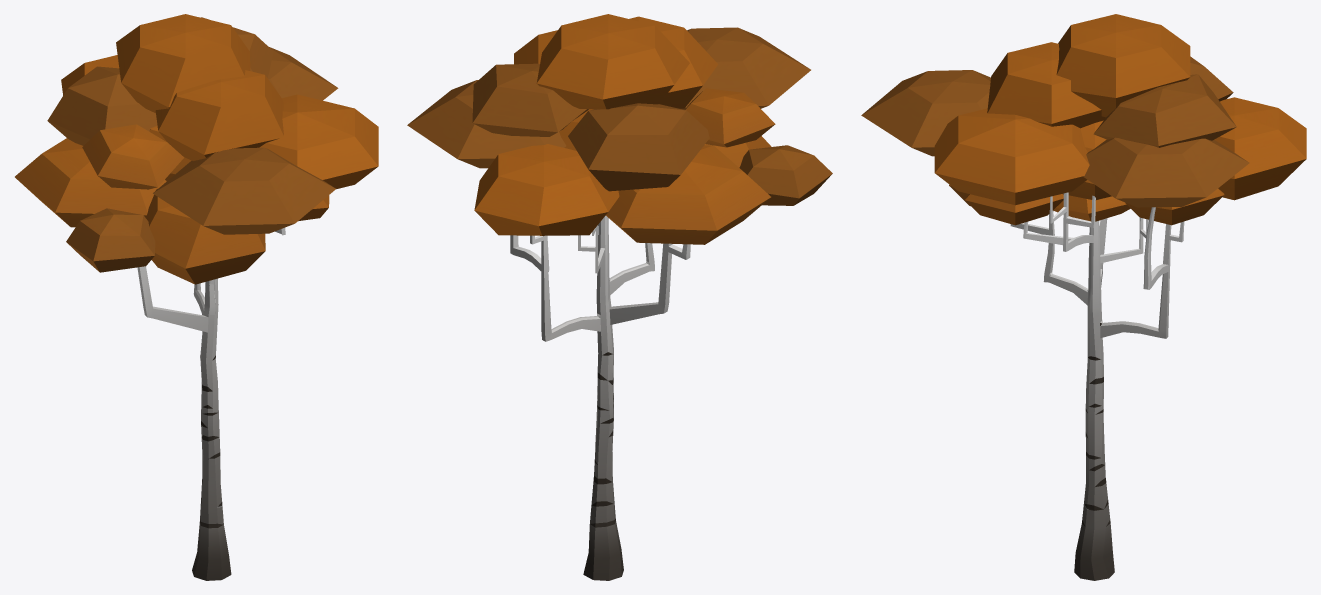
File: arbol1.fbx
3 renders of one model, left to right at view 1: azimuth 30°, elevation 25°; view 2: azimuth 150°, elevation 25°; view 3: azimuth 270°, elevation 25°, orthographic. The views are drawn at different scales.
Visible parts, largest first — view 1: arbol1; view 2: arbol1; view 3: arbol1.
Boxes of the visible parts, x1,y1,x2,y2 form: arbol1: [15, 14, 378, 580]; arbol1: [407, 14, 832, 580]; arbol1: [861, 14, 1306, 580].
Size of the model in its own units: 1557 by 2587 by 1963.
